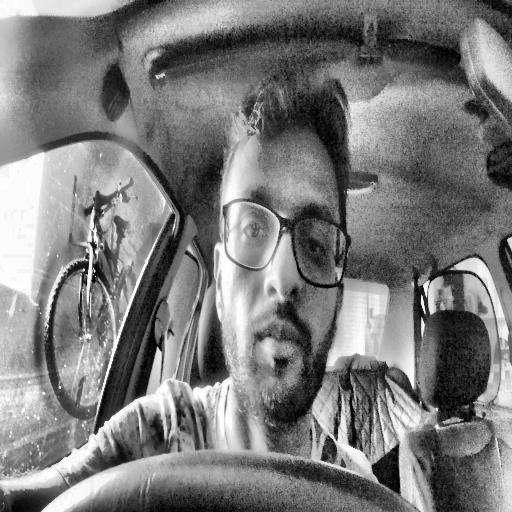awake: (211, 66, 352, 434)
